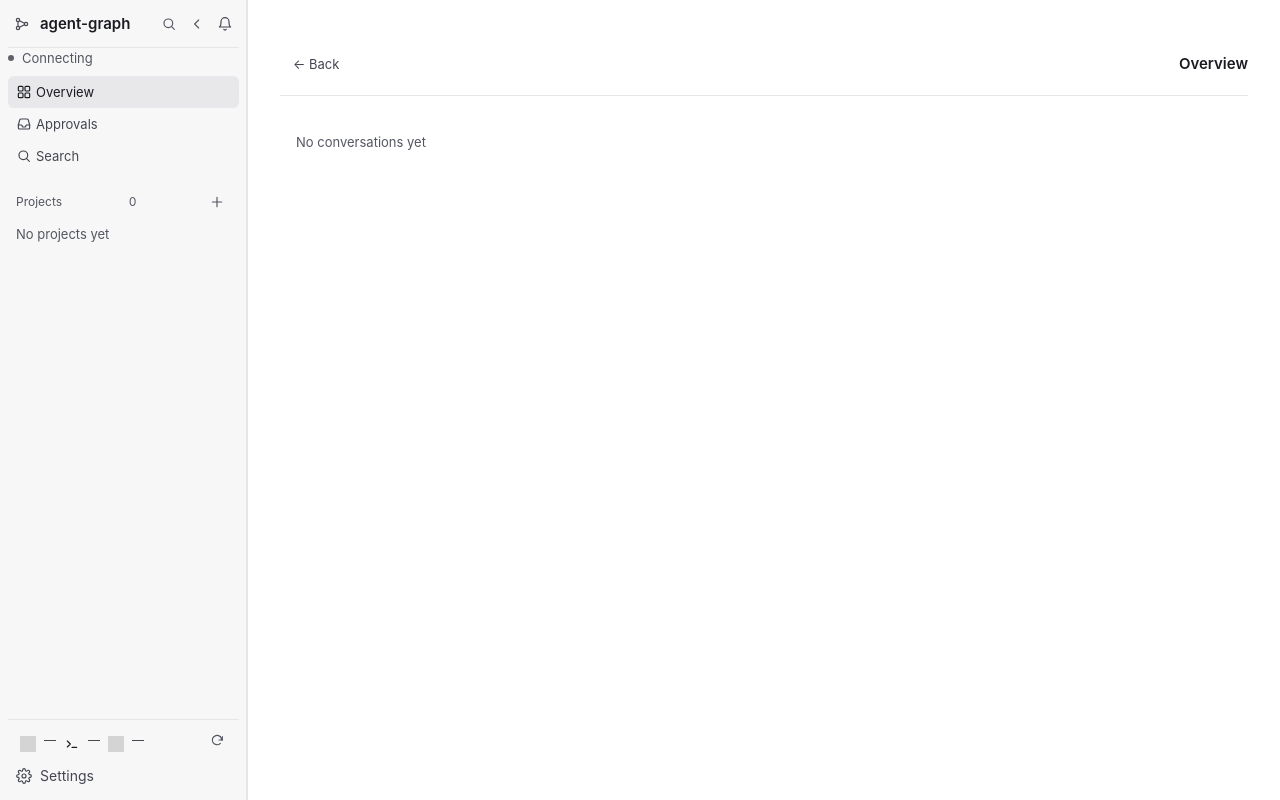
Test case: connects sidebar search to the authenticated search client
Click the link "Search". click: (48, 156)
box: [16, 148, 79, 164]
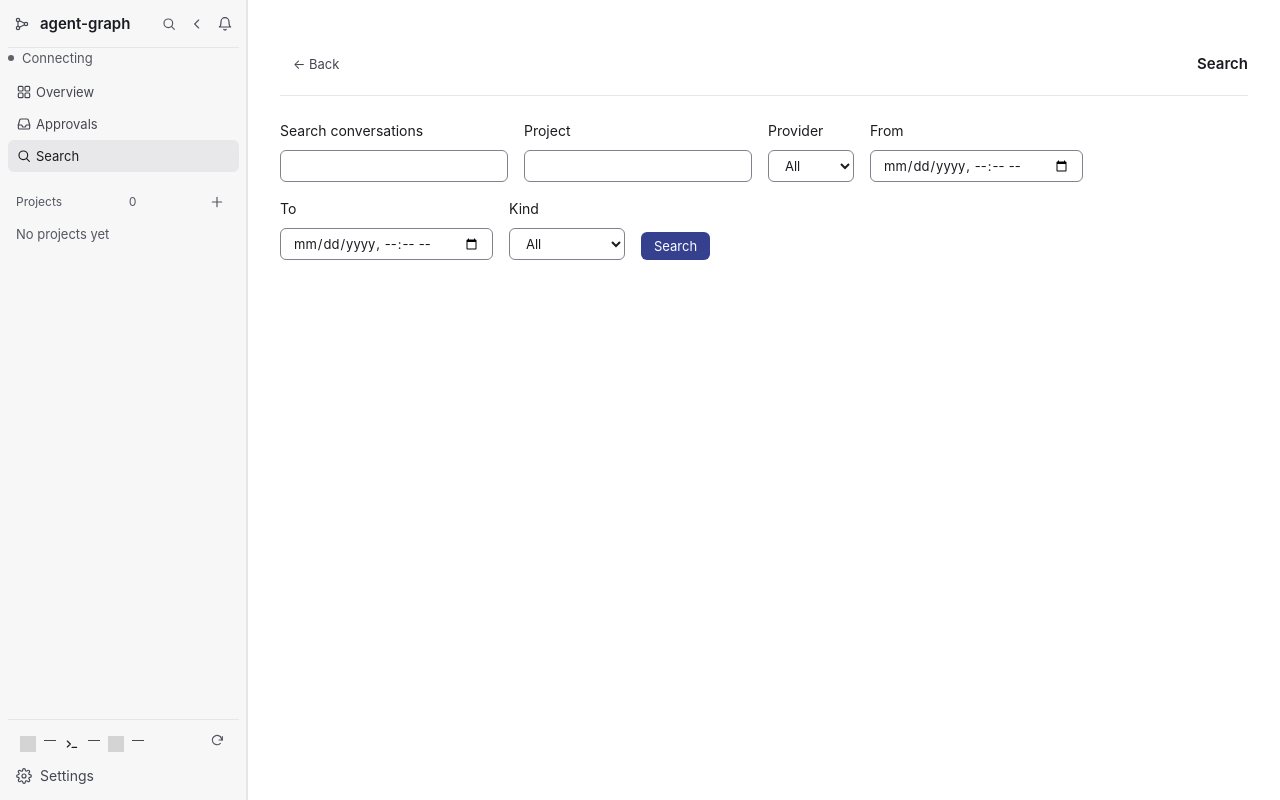
Type "review marker" into the search field labelled "Search conversations". click: (394, 166)
box: [280, 150, 508, 182]
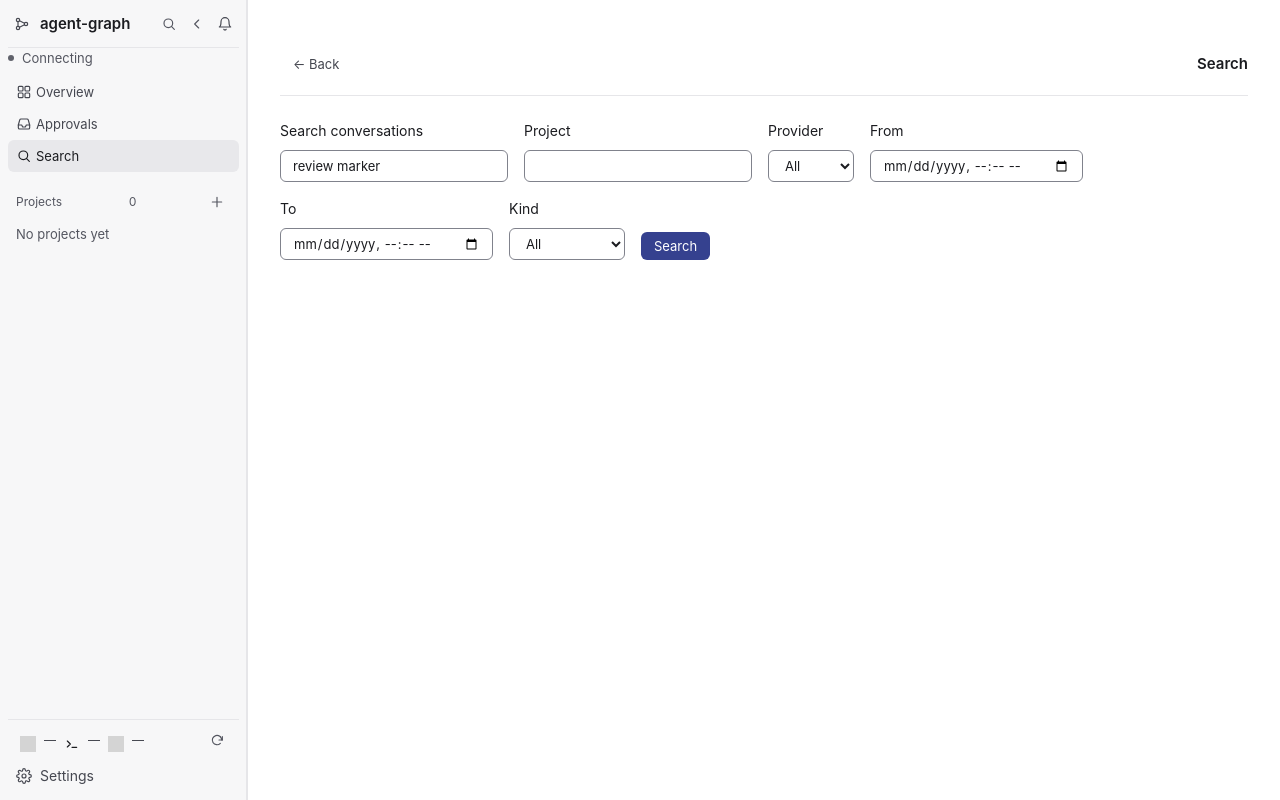
Click the button "Search". click: (676, 246)
box: [641, 232, 710, 260]
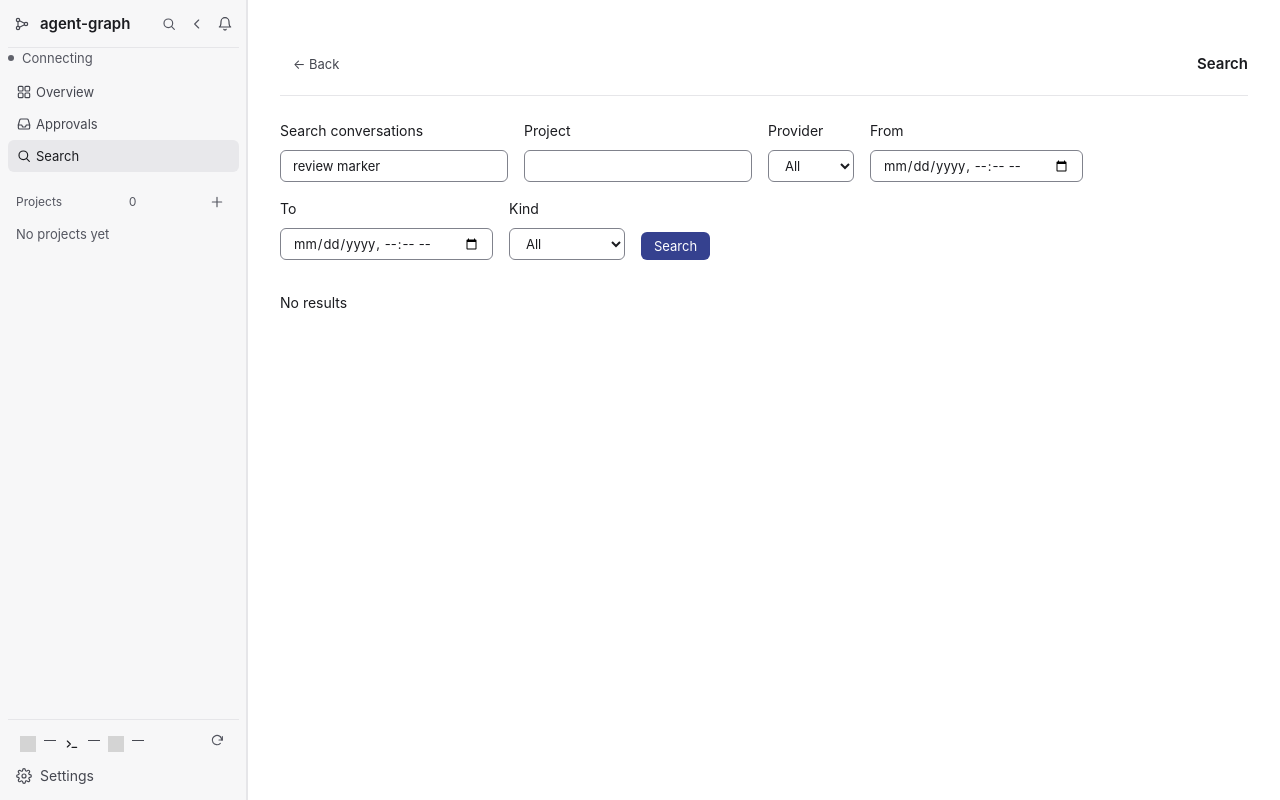
Now the text "No results" is shown, box [280, 294, 347, 311]
